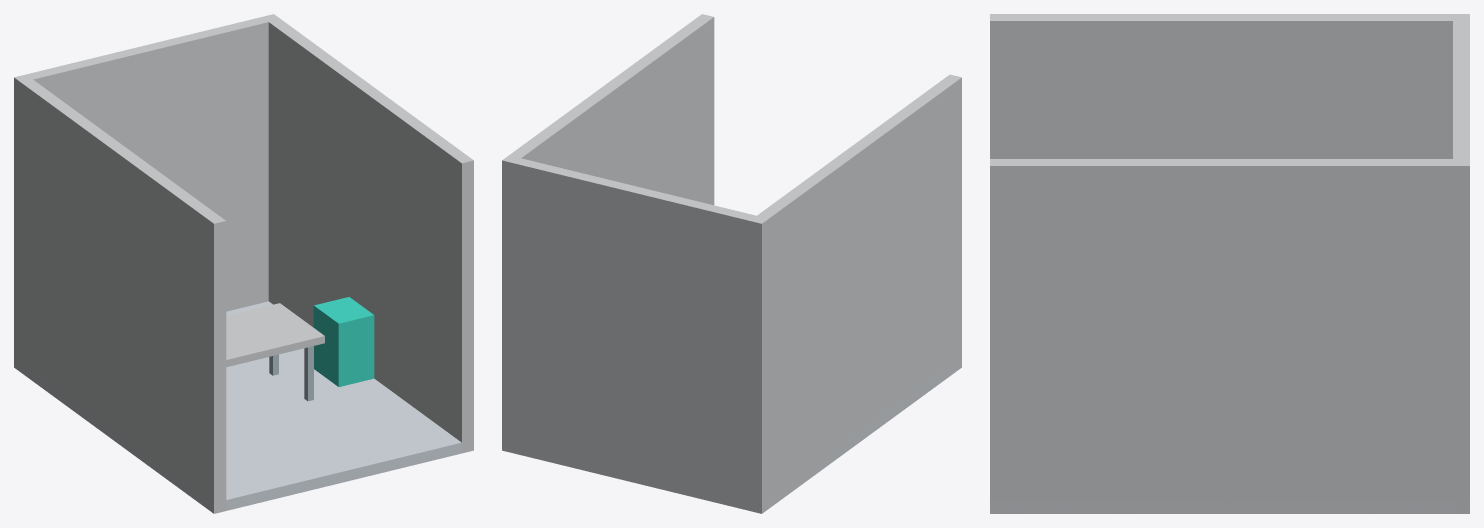
3 views of the same model, side by side, from view 1: azimuth 30°, elevation 25°; view 2: azimuth 150°, elevation 25°; view 3: azimuth 270°, elevation 25° (orthographic). The views are drawn at different scales.
Visible parts, largest first — view 1: Exhibition Booth Concept; view 2: Exhibition Booth Concept; view 3: Exhibition Booth Concept.
Part boxes in pixels (x1=…): Exhibition Booth Concept: x1=14, y1=14, x2=473, y2=513; Exhibition Booth Concept: x1=502, y1=14, x2=961, y2=513; Exhibition Booth Concept: x1=990, y1=14, x2=1469, y2=513.
Size of the model in its own units: 3 by 3.2 by 4.
